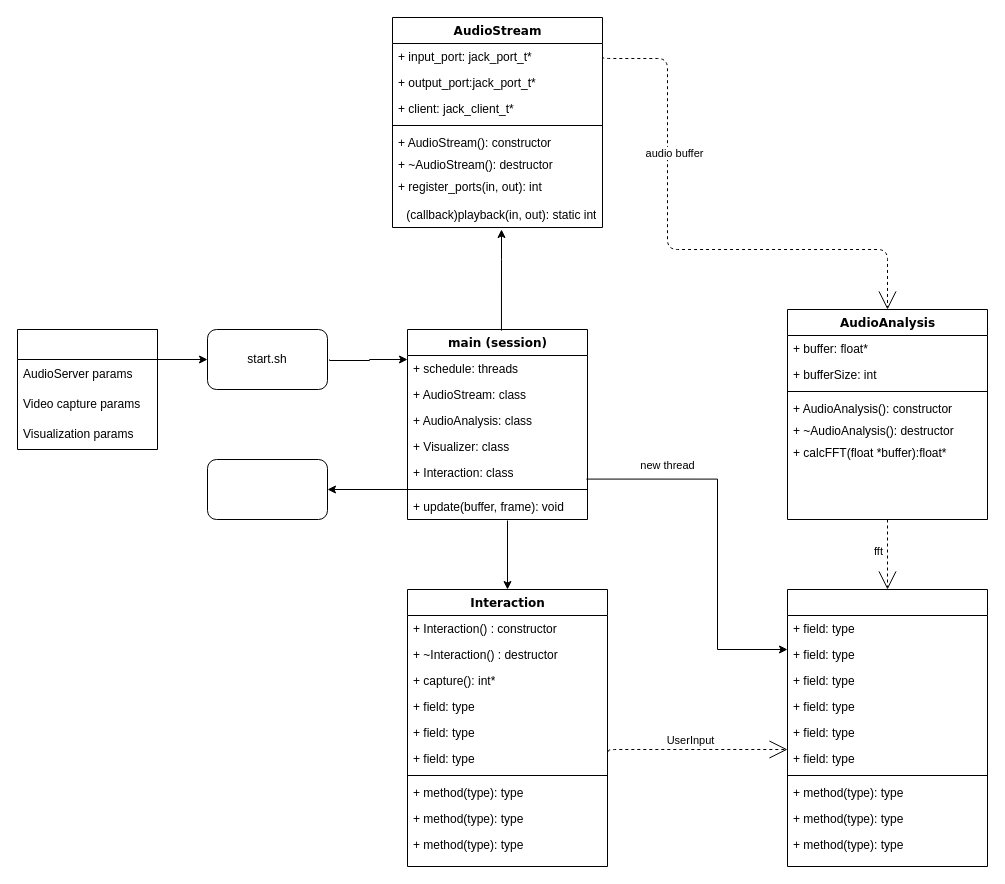
Image size: 1005x884. Some labels were removed from this diagram. Here are the shapes that lost their labels. From the top down, the box of each, then its label:
(16, 328, 158, 450): Arguments
(206, 458, 328, 520): stop.sh
(786, 588, 988, 866): Visualizer
